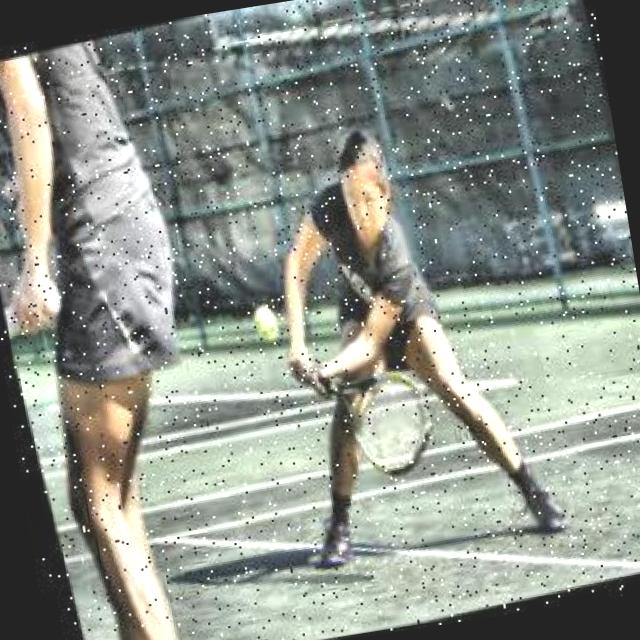Tennis Ball: (241, 298, 282, 348)
